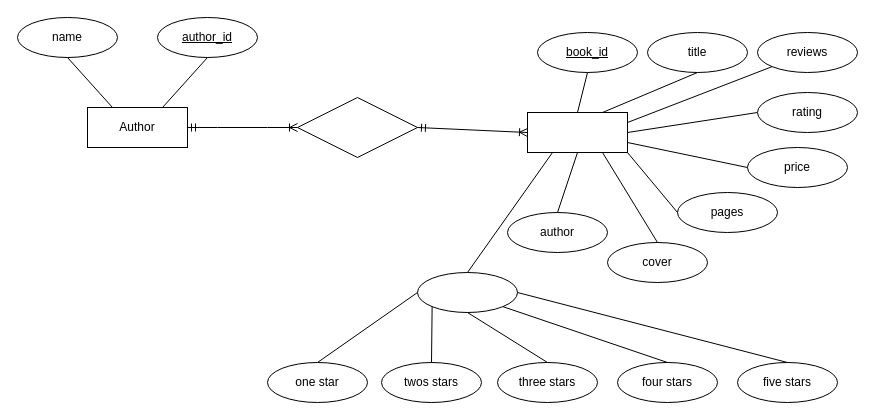
Some shapes in this 875 by 420 pixel diagram are drawn without their labels. Each missing label, with the centre of its shape:
"Book" belongs at [577,132].
"rating count" belongs at [467,292].
"write" belongs at [357,127].
